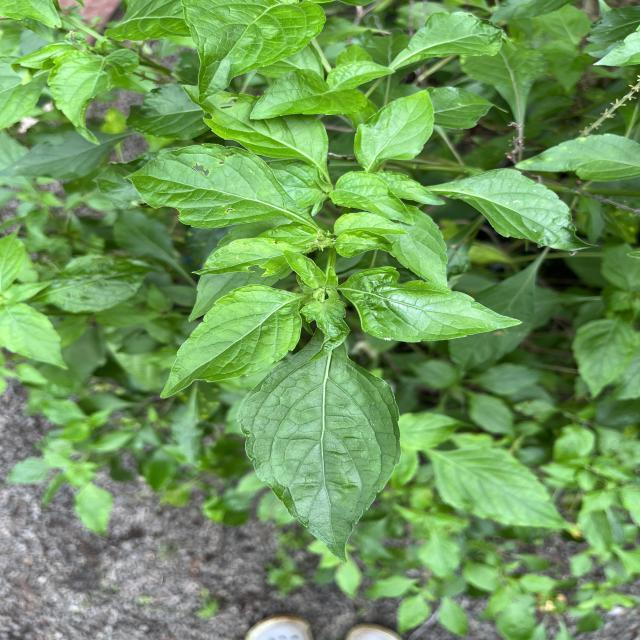Ocimum gratissimum: (233, 340, 405, 566), (158, 280, 308, 402), (122, 140, 306, 232), (177, 0, 327, 106), (336, 262, 526, 344), (427, 165, 603, 252), (46, 48, 143, 148), (383, 8, 523, 74), (350, 84, 438, 170), (244, 67, 374, 123), (326, 169, 418, 228)
